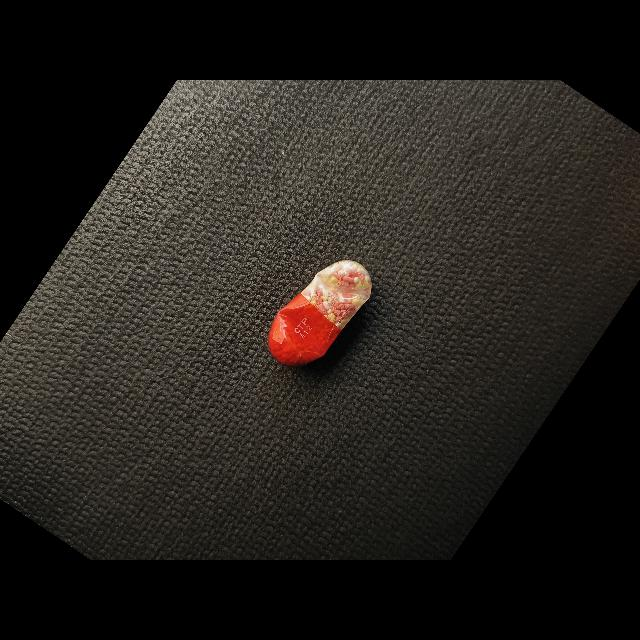Defective Capsule: (268, 260, 372, 366)
